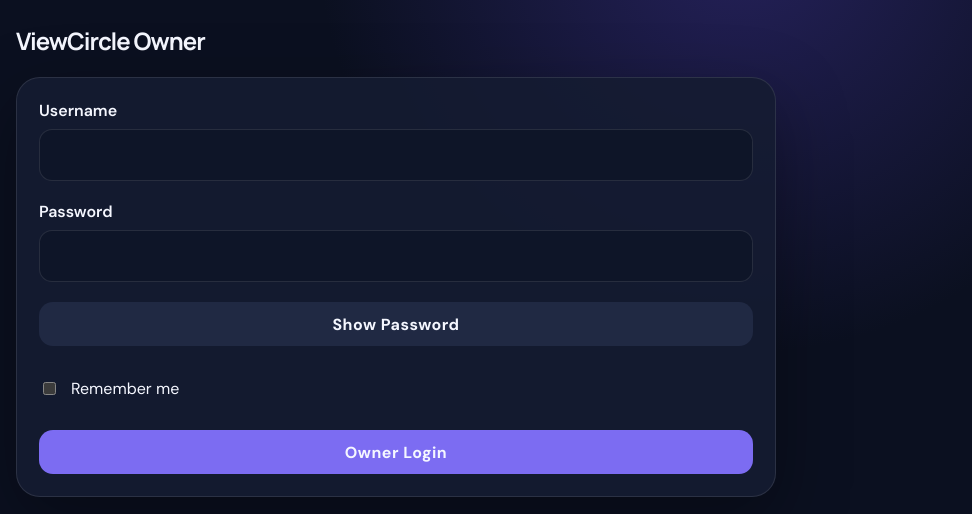
Test: supports Owner password autofill and accessible visibility without changing the password
Type "test-secret" into the password field labelled "Password" at (396, 256), box [39, 230, 753, 282]
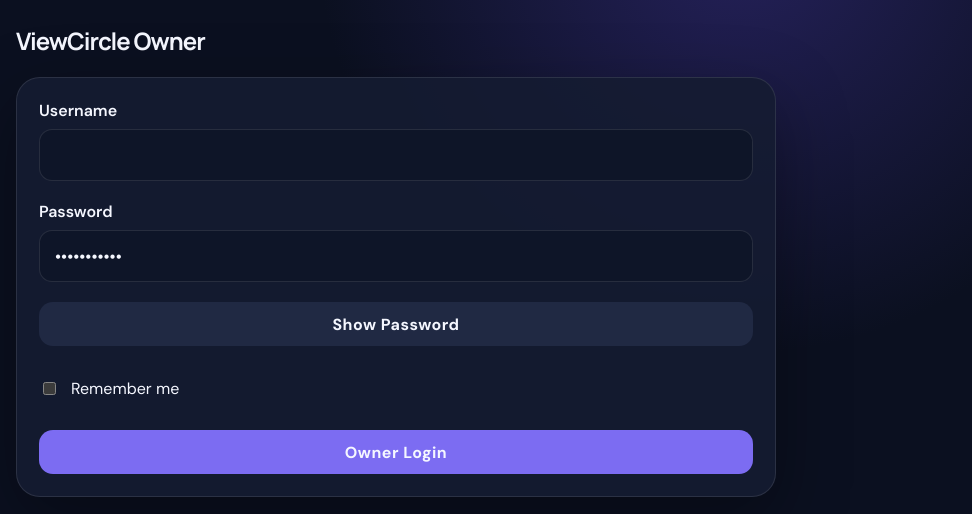
Click the button "Show Password" at (396, 324), box [39, 302, 753, 346]
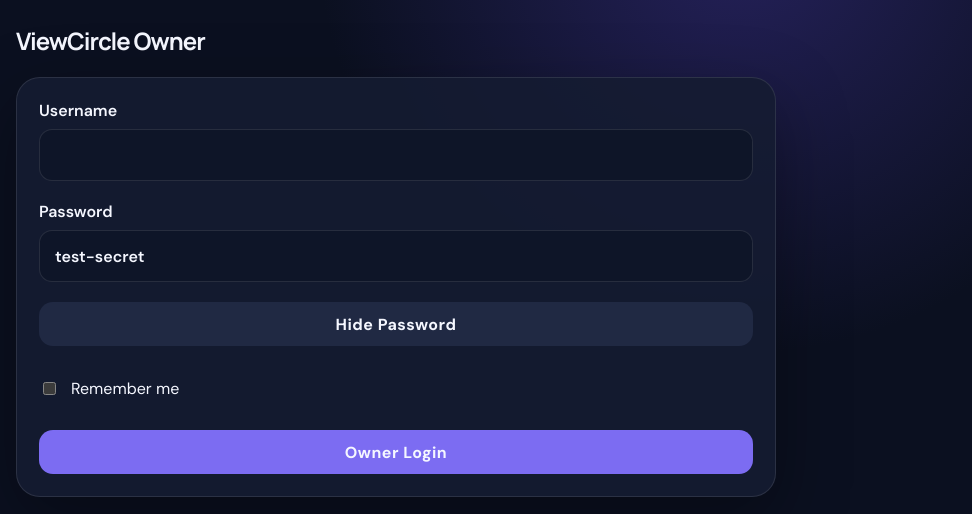
Expected: the field labelled "Password" shows its text, [39, 230, 753, 282]
Click the button "Hide Password" at (396, 324), box [39, 302, 753, 346]
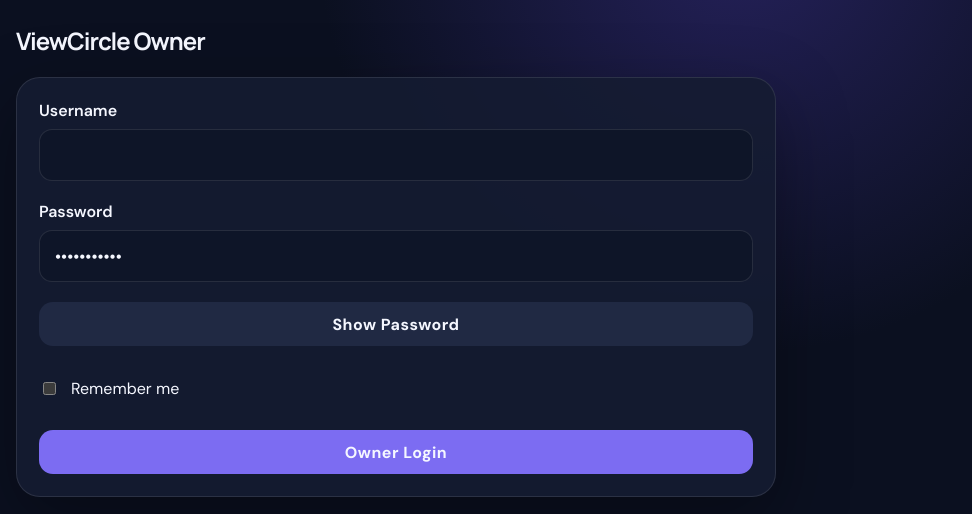
Expected: the password field labelled "Password" hides its text, [39, 230, 753, 282]
